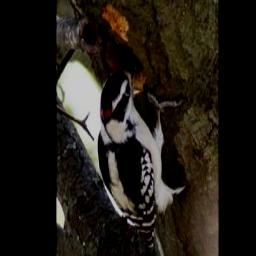Woodpecker: (98, 62, 186, 256)
